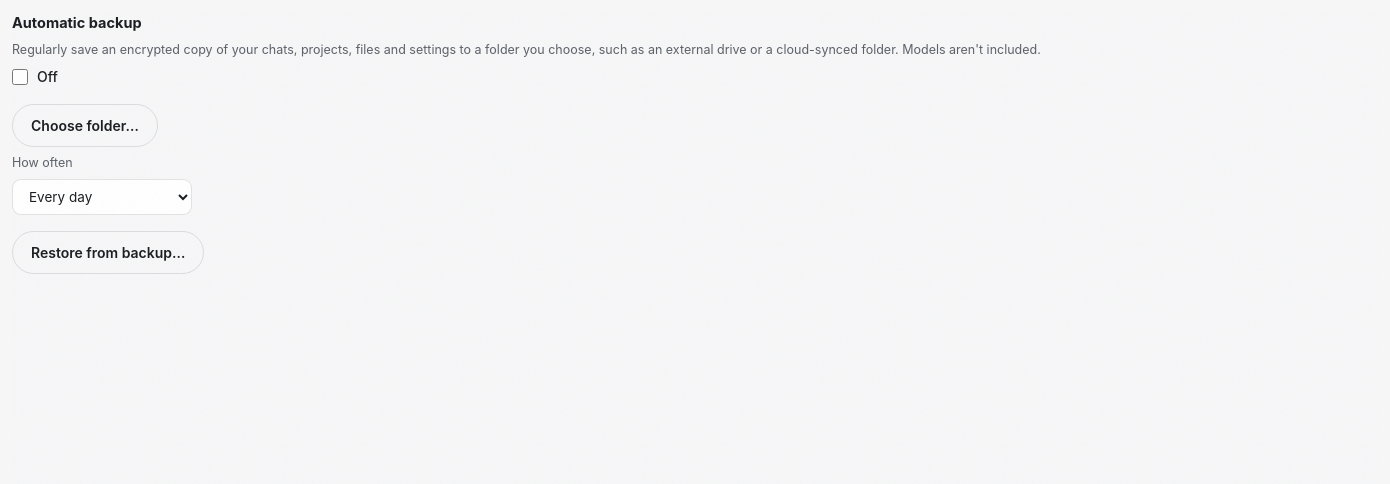
AutoBackupField › says so when the recovery code is wrong, and changes nothing
The width and height of the screenshot is (1390, 484).
Click the button "Restore from backup…" at (108, 252), box [12,231,204,274]
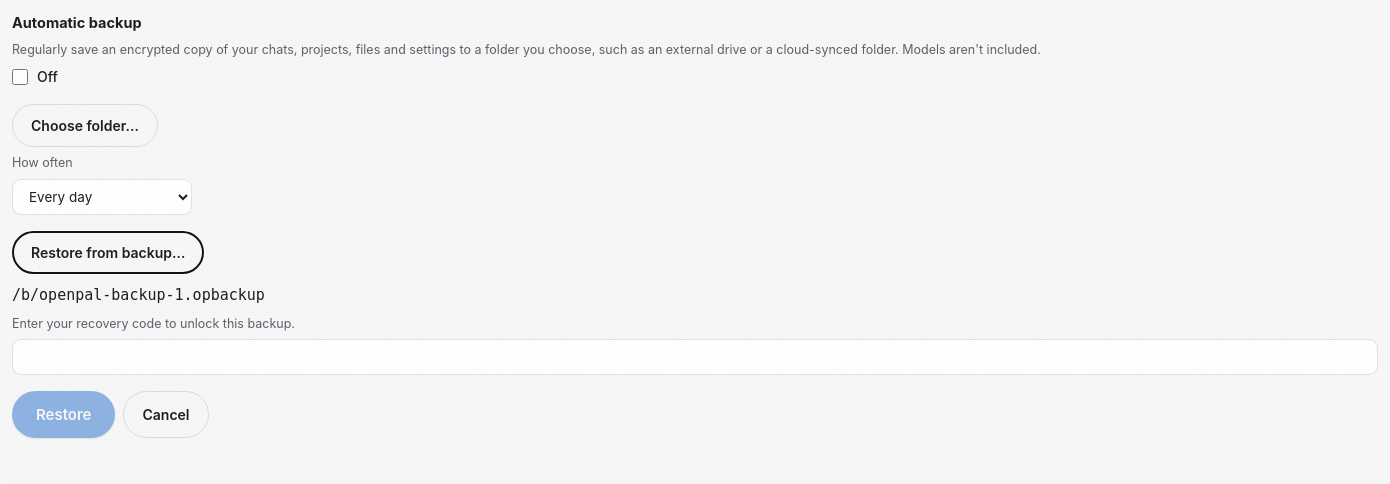
Type "WRONG" into the field at (695, 357), box [12,339,1378,375]
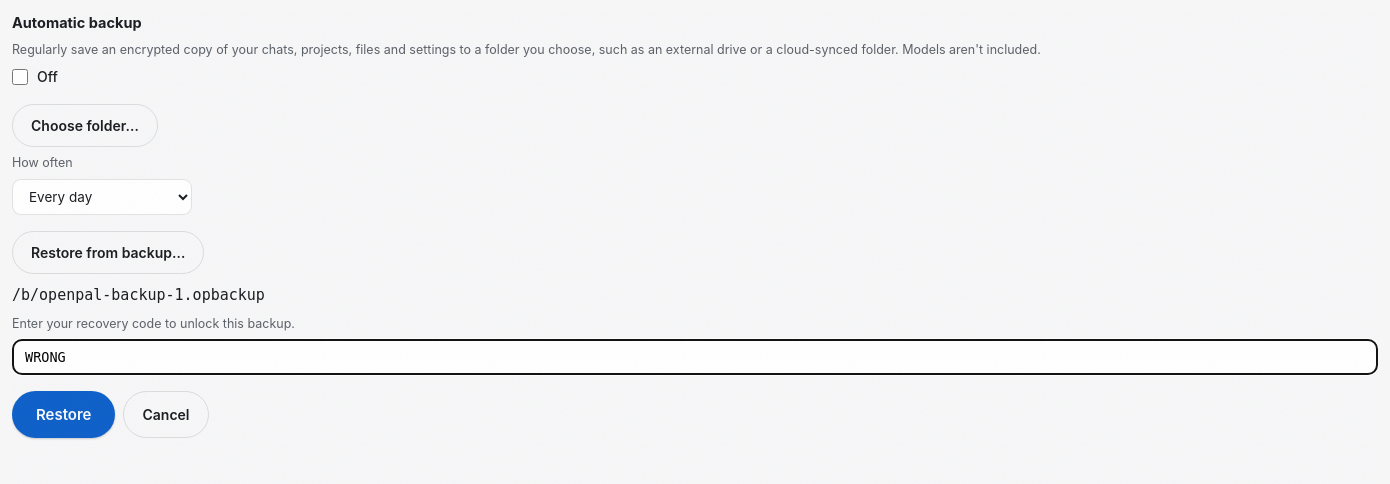
Click the button "Restore" at (64, 415), box [12,391,116,438]
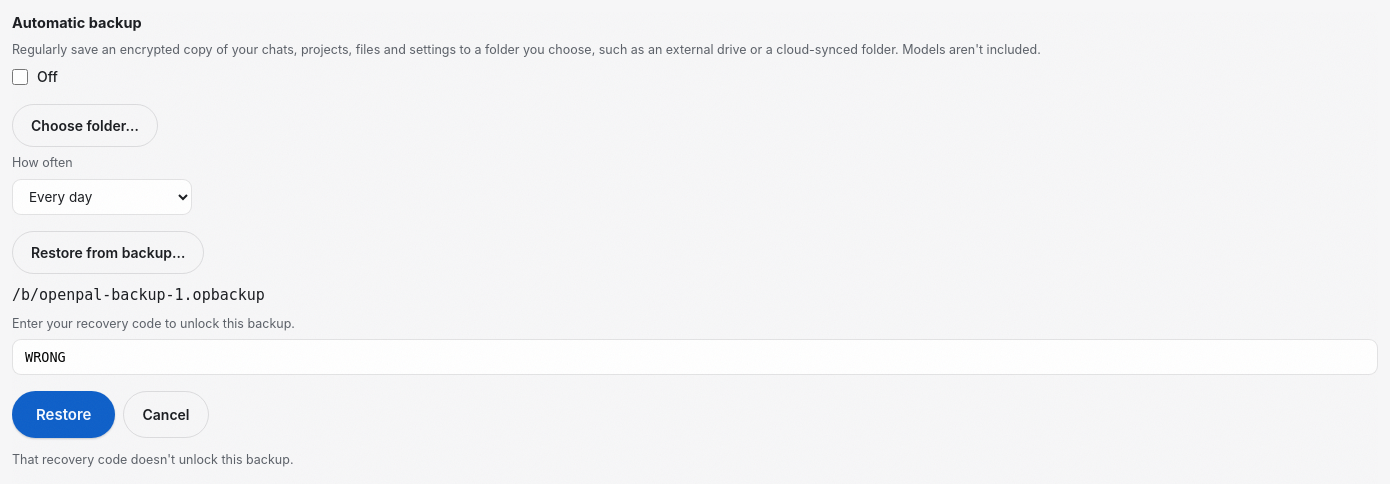
Expected: the text "That recovery code doesn't unlock this backup." is shown, [12,452,294,467]
